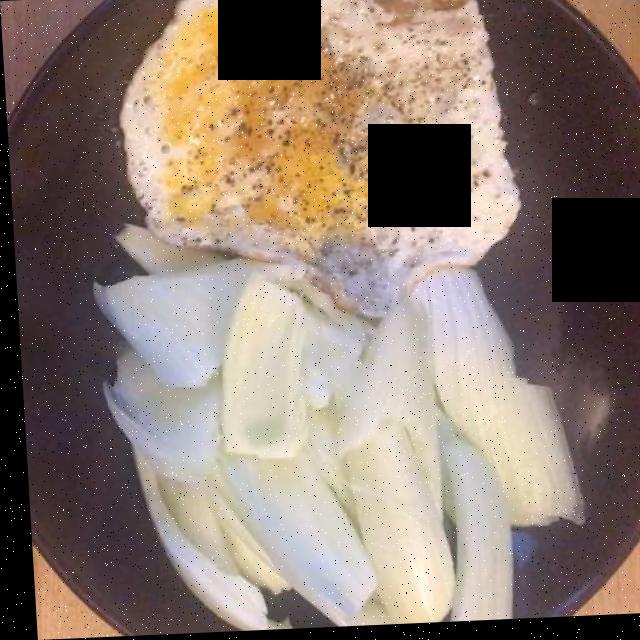egg: (87, 0, 519, 312)
fennel: (94, 239, 607, 622)
